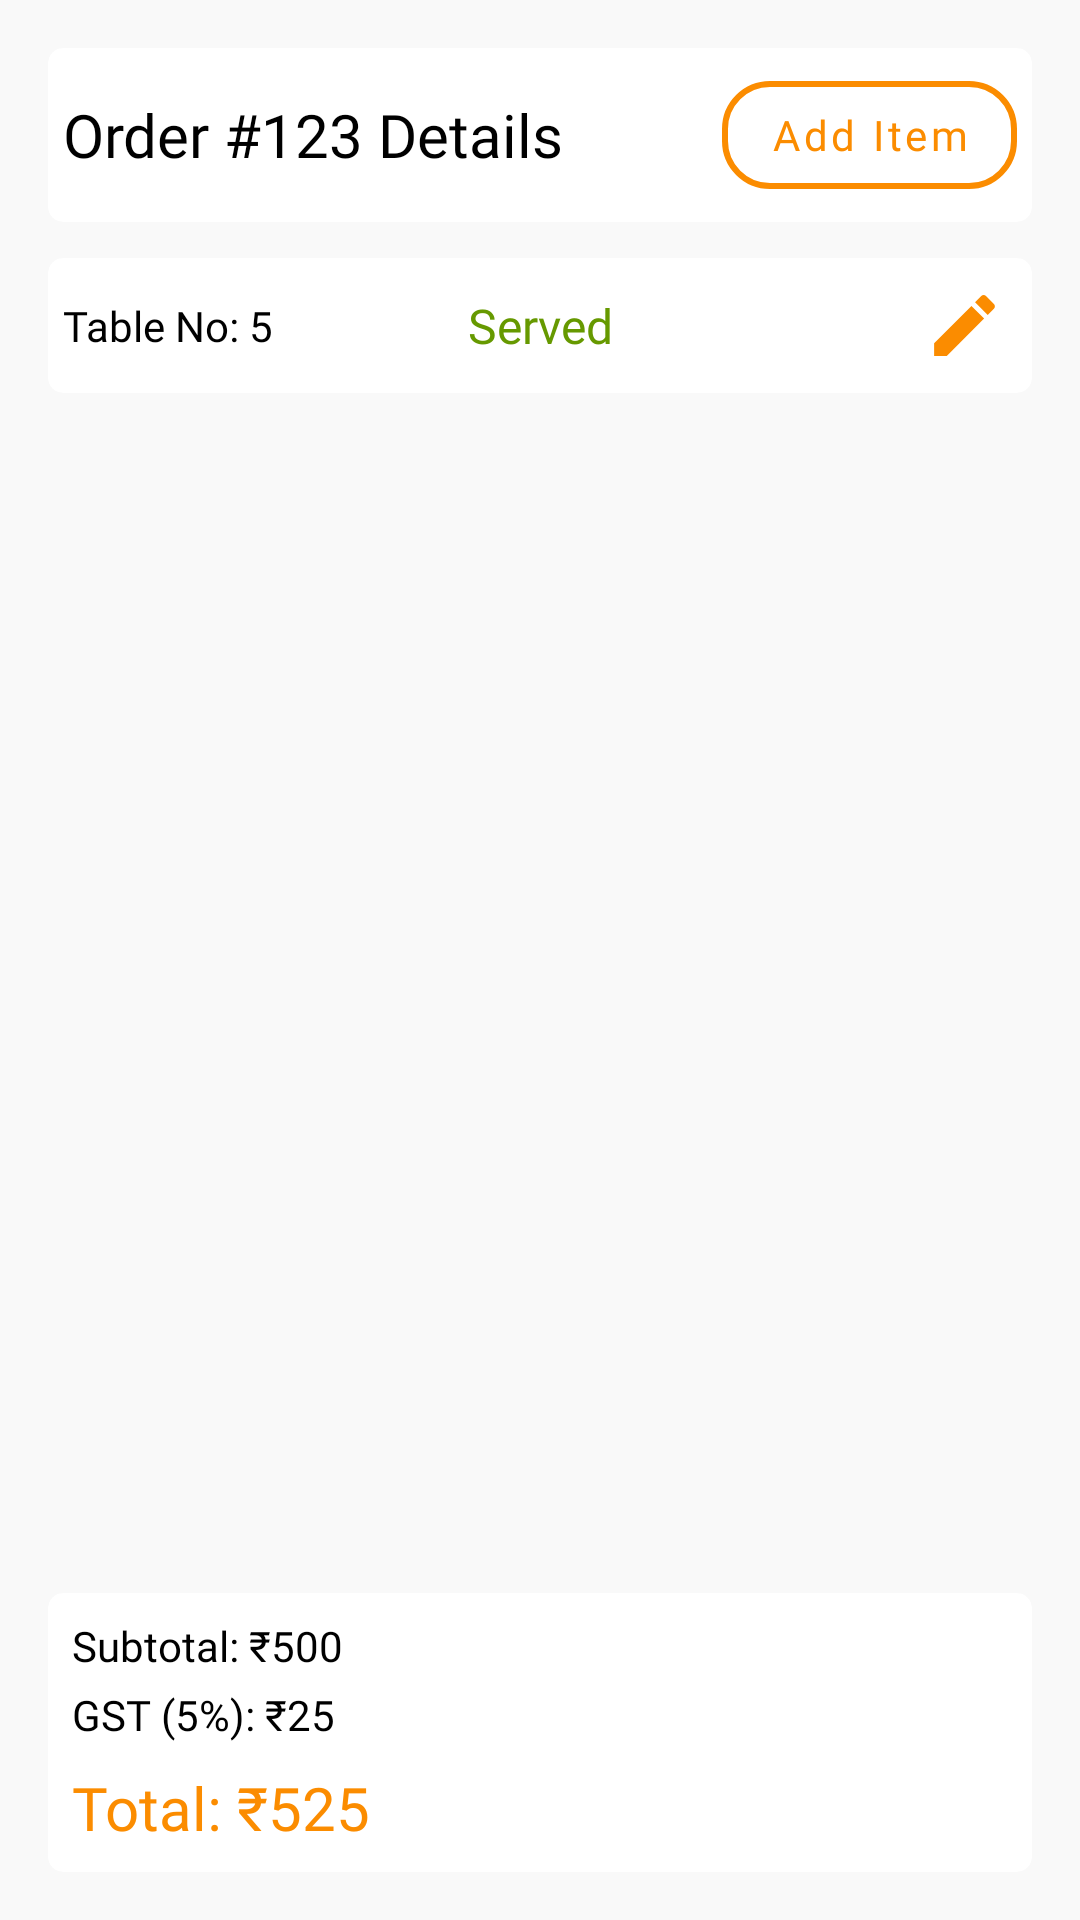

Named icons in this screenshot (1080x1920) and their bounding boxes, region(x1, y1, x2, y2):
edit: region(934, 295, 995, 356)
